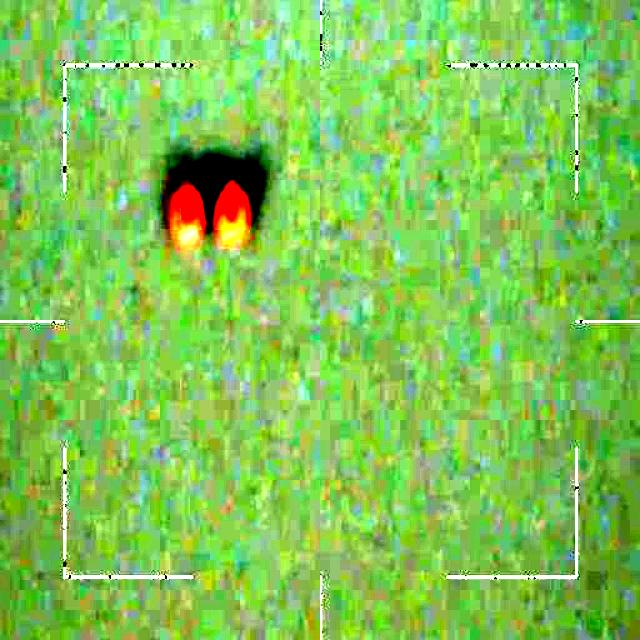bird: (169, 156, 262, 242)
